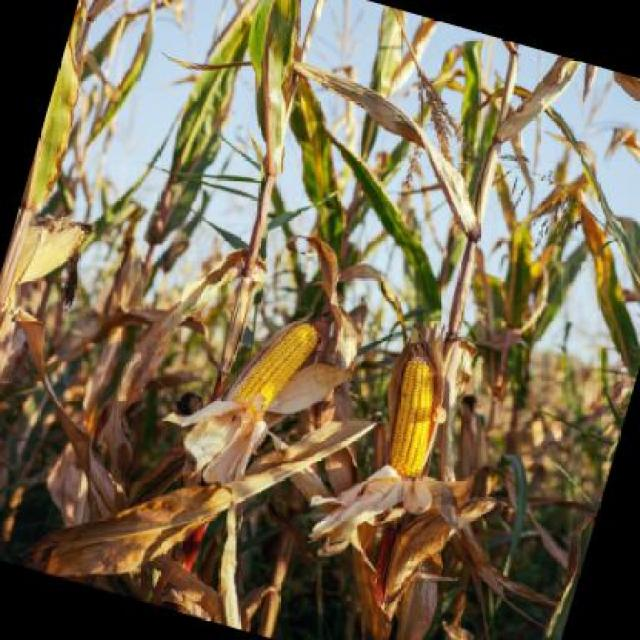Corn: (197, 248, 361, 460), (338, 288, 492, 484)
